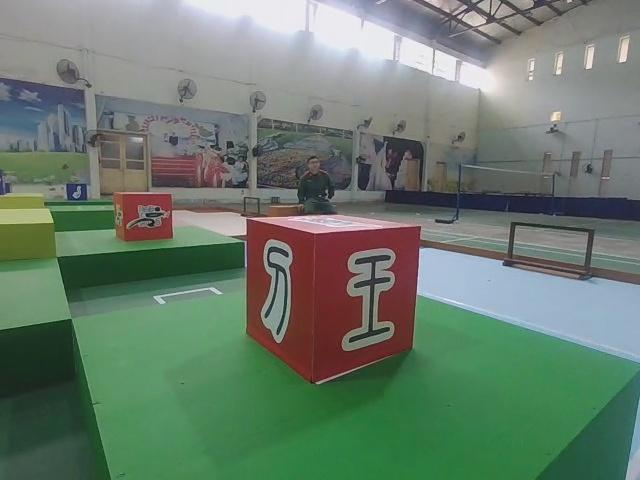R1: (111, 188, 177, 245)
R2 Fake: (246, 213, 422, 383)
